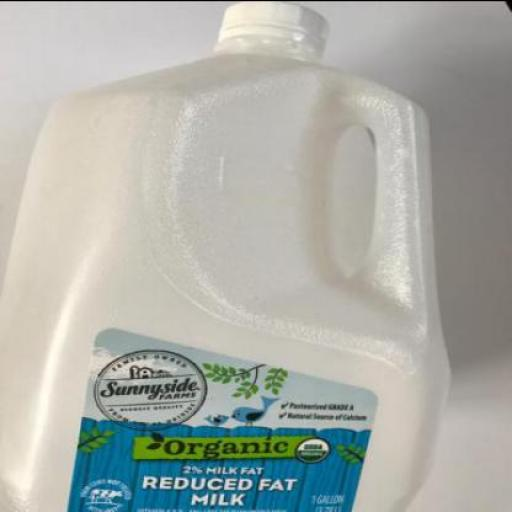plastic: (0, 1, 452, 511), (216, 1, 328, 53)
